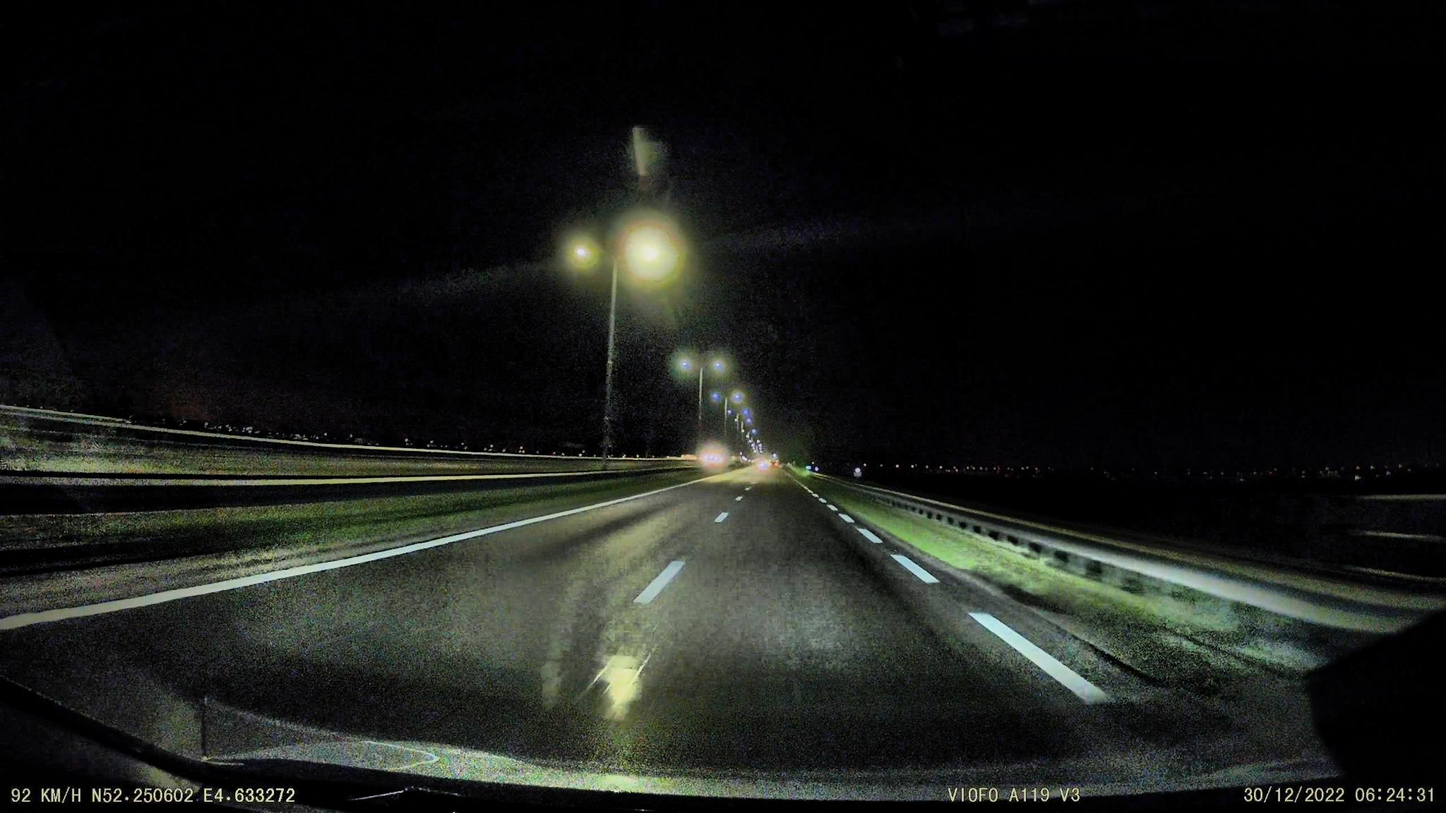Roads: (98, 466, 1162, 755)
